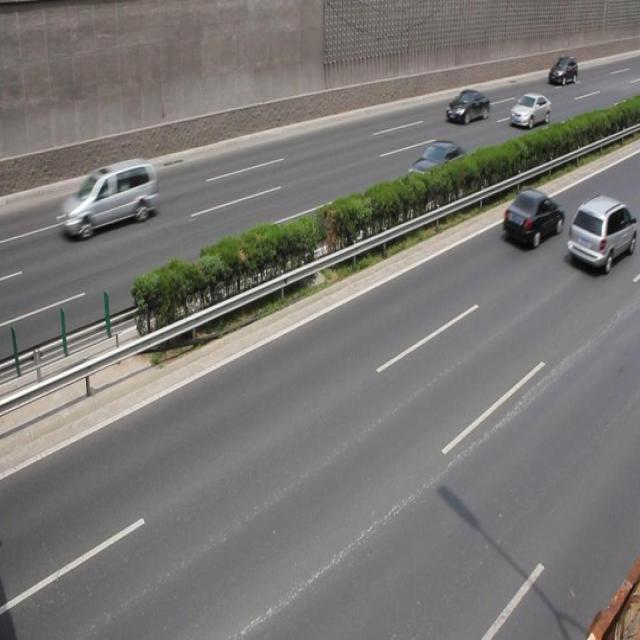car: (56, 162, 157, 239), (565, 194, 632, 272), (406, 139, 470, 198), (502, 189, 564, 248), (443, 87, 488, 125), (508, 90, 552, 128), (546, 54, 578, 87)
